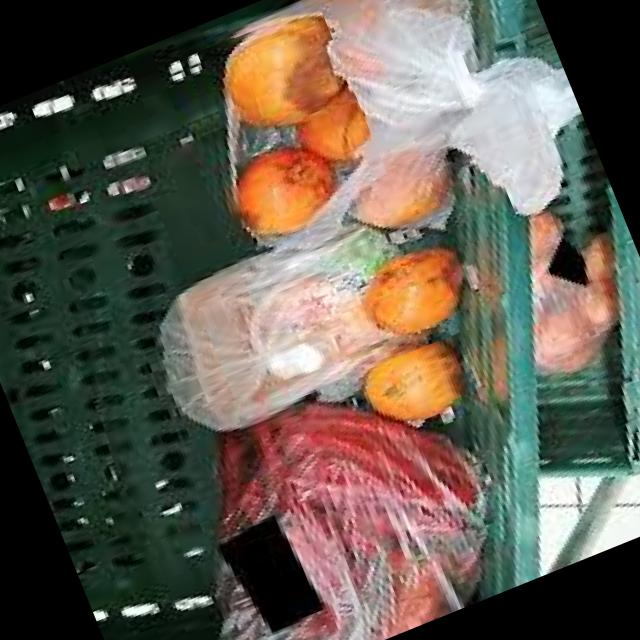Organic: (167, 0, 394, 252), (328, 222, 478, 354), (350, 330, 482, 427)
